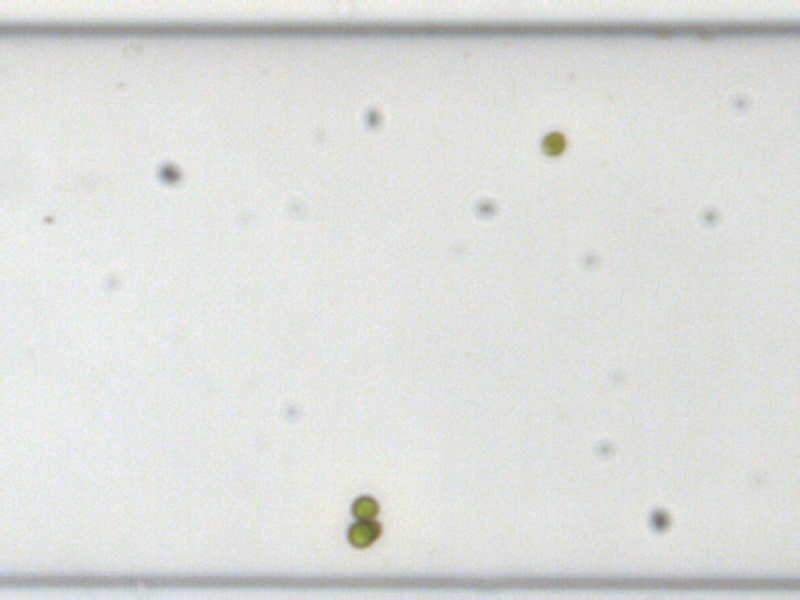Platymonas: (345, 517, 382, 552), (352, 495, 381, 519), (541, 129, 566, 154)
